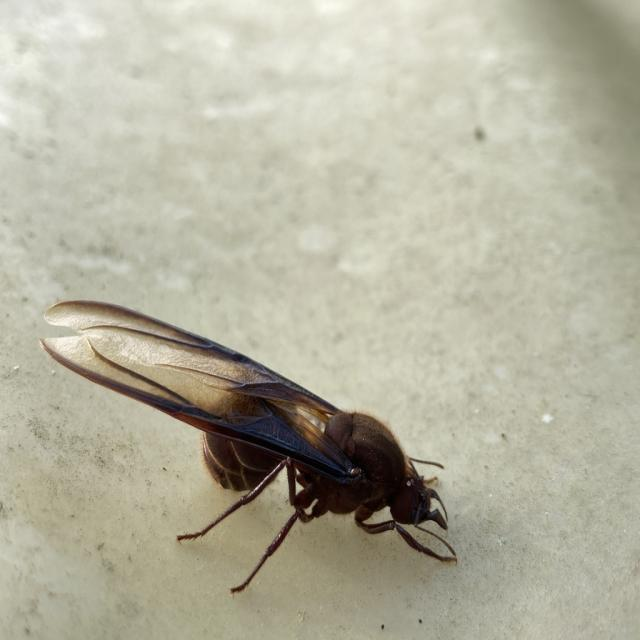Alive-Female-Alate: (39, 299, 460, 595)
